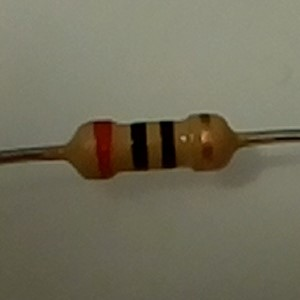black_band: (128, 121, 149, 173), (158, 119, 179, 171)
gold_band: (197, 111, 214, 175)
red_band: (92, 118, 115, 182)
